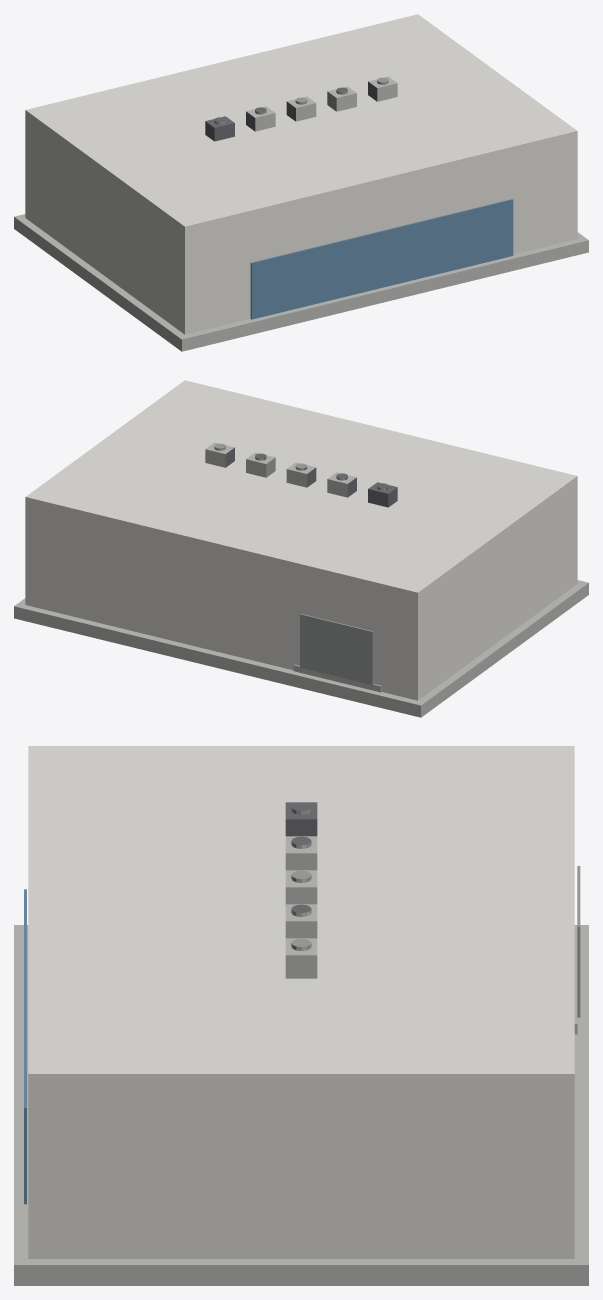
Rendered from supermarket_anchor_store.glb.
3 renders of one model, top to bottom at view 1: azimuth 30°, elevation 25°; view 2: azimuth 150°, elevation 25°; view 3: azimuth 270°, elevation 25°, orthographic. The views are drawn at different scales.
Visible parts, largest first — view 1: supermarket_anchor_store; view 2: supermarket_anchor_store; view 3: supermarket_anchor_store.
Boxes of the visible parts, <box> form: supermarket_anchor_store: <box>14,14,588,351</box>; supermarket_anchor_store: <box>14,380,588,717</box>; supermarket_anchor_store: <box>14,746,588,1285</box>.
Size of the model in its own units: 28 by 9.25 by 20.
